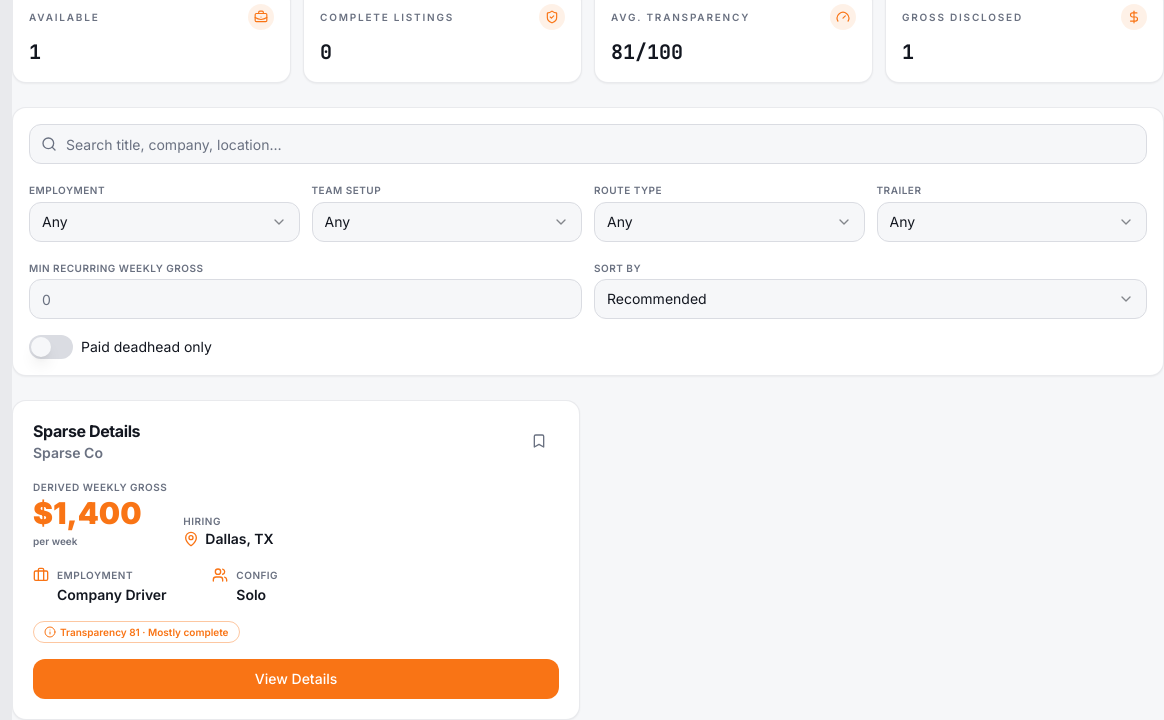
Scenario: Phase 1L-F2C · Disclosure-state consistency › 7. flat_weekly company_driver with no route/trailer/home_time/mileage: card and detail keep Company Driver + Solo, omit route/trailer/home/mileage rows entirely
The image size is (1164, 720).
(page scrolled)
Expected: the text "Company Driver" is shown, x1=57 y1=585 x2=167 y2=605
Expected: the text "Solo" is shown, x1=236 y1=586 x2=266 y2=603
Click the button "View Details": click(296, 679) x1=33 y1=659 x2=559 y2=699
(page scrolled)
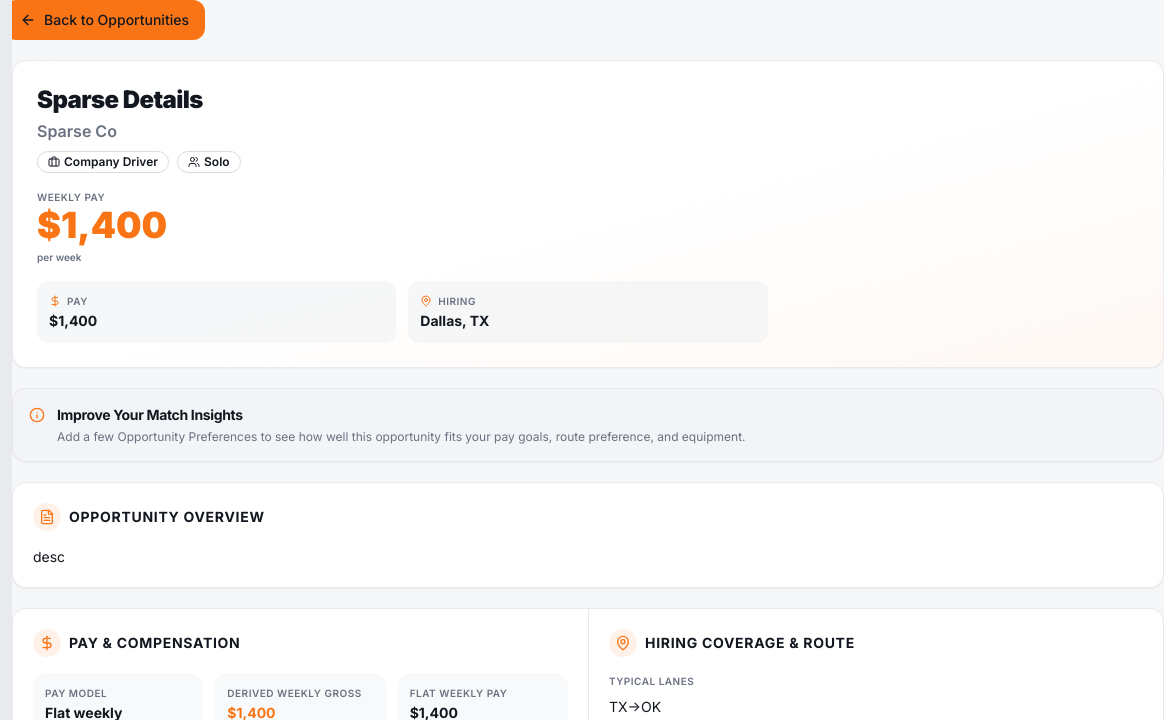
Expected: the text "Company Driver" is shown, x1=37 y1=151 x2=169 y2=173
Now the heading "Sparse Details" is shown, box x1=37 y1=85 x2=203 y2=115
